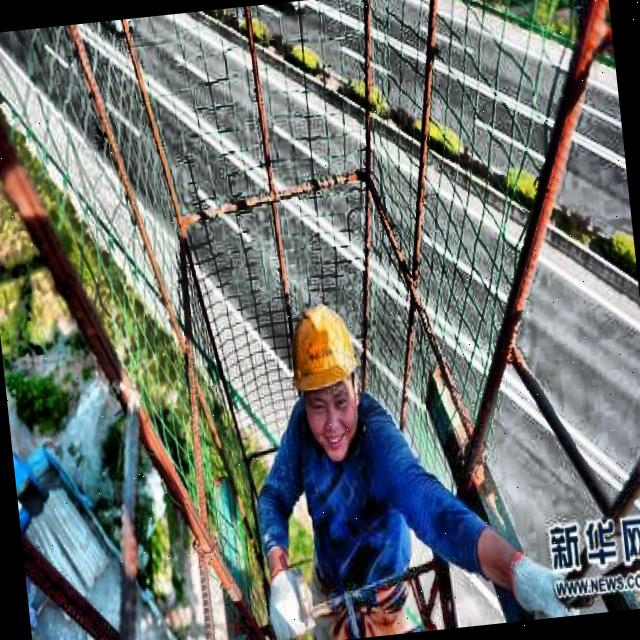helmet: (277, 284, 375, 458)
